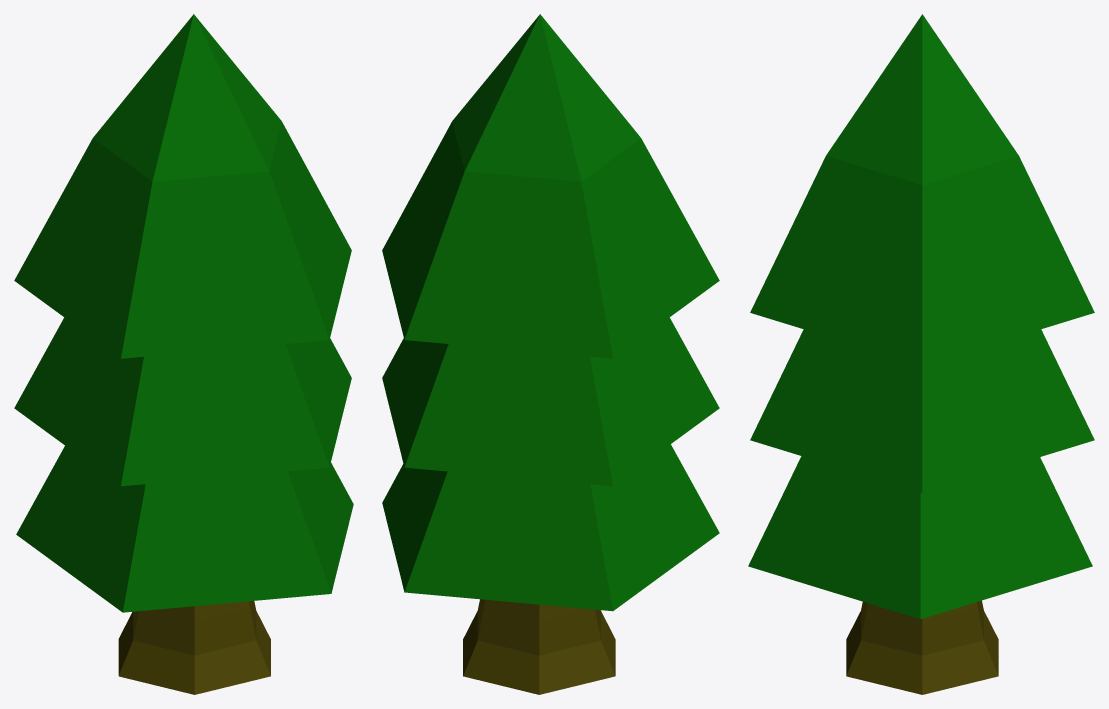
The model's file is Tree100cm.fbx.
3 renders of one model, left to right at view 1: azimuth 30°, elevation 25°; view 2: azimuth 150°, elevation 25°; view 3: azimuth 270°, elevation 25°, orthographic.
Parts seen in each view (by area): view 1: pPyramid3, pPyramid2, pPyramid1, pCylinder1; view 2: pPyramid3, pPyramid2, pPyramid1, pCylinder1; view 3: pPyramid3, pPyramid2, pPyramid1, pCylinder1.
Boxes of the visible parts, box(x1,y1,x2,y2) form: pPyramid3: box(14, 14, 351, 358); pPyramid2: box(14, 317, 351, 486); pPyramid1: box(16, 446, 353, 612); pCylinder1: box(118, 601, 270, 694); pPyramid3: box(382, 14, 719, 358); pPyramid2: box(382, 317, 719, 486); pPyramid1: box(382, 444, 719, 611); pCylinder1: box(463, 599, 615, 694); pPyramid3: box(750, 14, 1094, 365); pPyramid2: box(750, 329, 1094, 492); pPyramid1: box(748, 456, 1092, 619); pCylinder1: box(846, 600, 998, 694).
Bounding box in the file's own units: 463 × 999 × 488.
